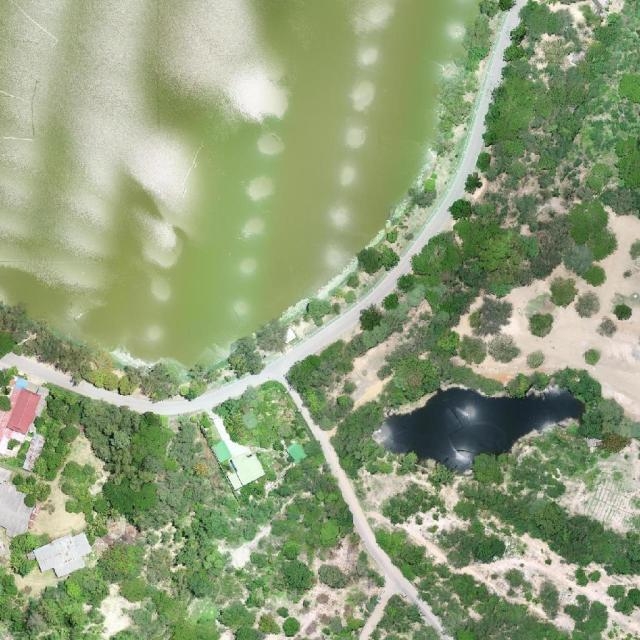building: (0, 375, 51, 462), (32, 527, 98, 584), (0, 467, 34, 536), (221, 448, 267, 491), (0, 482, 32, 536), (18, 432, 47, 472), (285, 441, 308, 465), (212, 439, 233, 463)
greenland: (274, 268, 492, 479), (192, 456, 384, 640), (17, 384, 235, 546), (368, 281, 505, 409), (502, 340, 640, 460), (219, 279, 343, 385), (212, 371, 308, 465), (0, 565, 88, 640), (448, 0, 516, 75), (350, 217, 419, 285), (533, 417, 600, 487), (60, 559, 116, 615), (372, 597, 439, 639), (466, 290, 518, 343), (382, 484, 446, 524), (408, 173, 442, 206), (394, 198, 415, 220)
metalled_road: (0, 353, 251, 424)
wetland: (368, 339, 588, 500)
